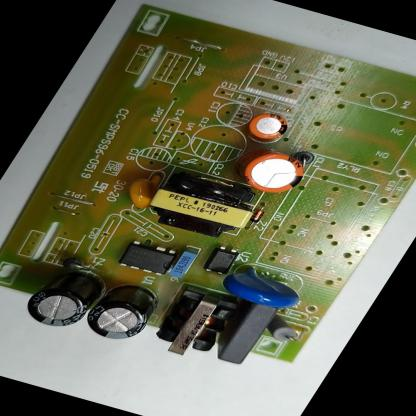Cap1: (235, 146, 314, 199)
Cap2: (242, 109, 296, 143)
Cap3: (77, 279, 166, 346)
Cap4: (18, 267, 105, 331)
MOSFET: (116, 239, 180, 278)
Mov: (215, 264, 309, 313)
Resistor: (262, 315, 306, 345)
Transformer: (139, 167, 268, 246), (147, 287, 243, 363)
